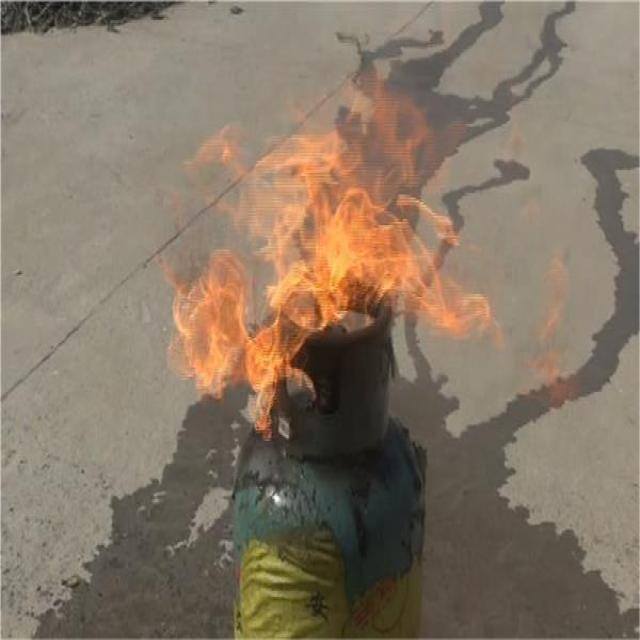Fire: (171, 104, 484, 426)
